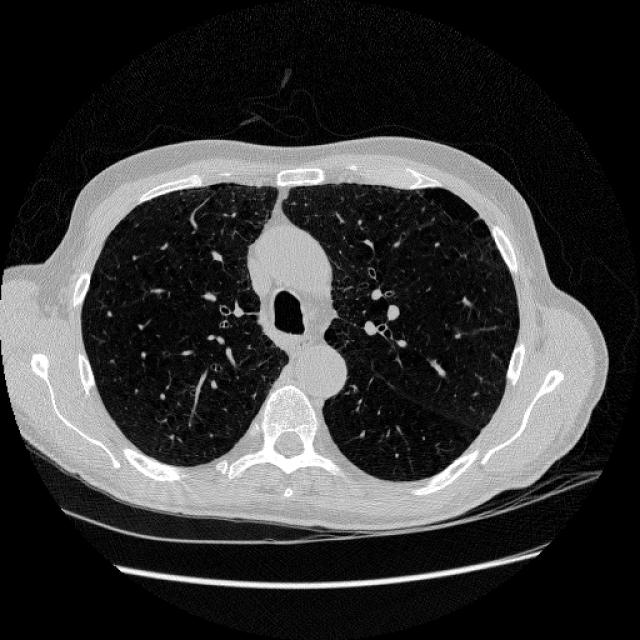nodule: (100, 305, 118, 323)
